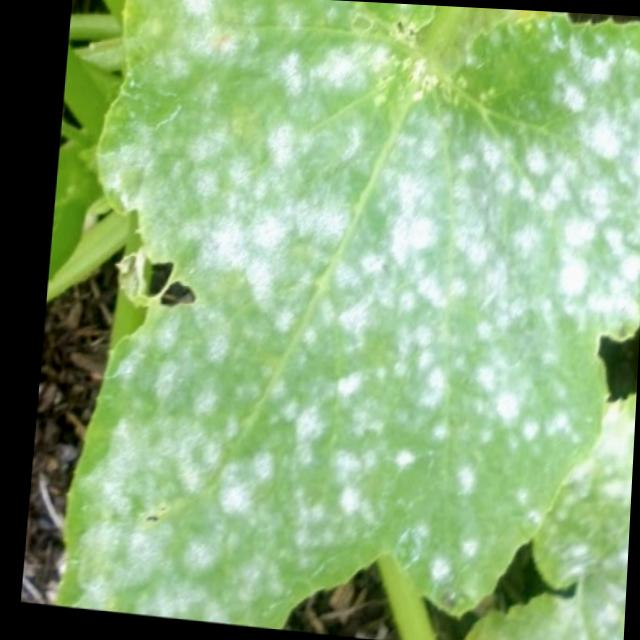Powdery_mildew_on_lettuce: (62, 0, 640, 636), (137, 312, 354, 600)
